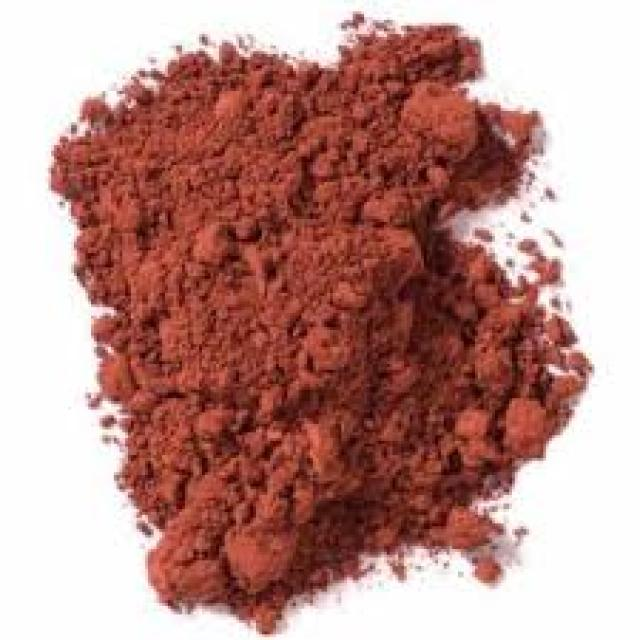Red Soil: (137, 146, 427, 476)
